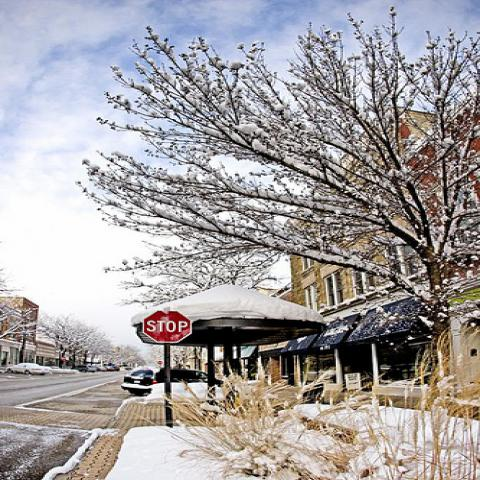car: (121, 366, 224, 394), (3, 362, 49, 376), (70, 364, 97, 372), (97, 366, 120, 372)
